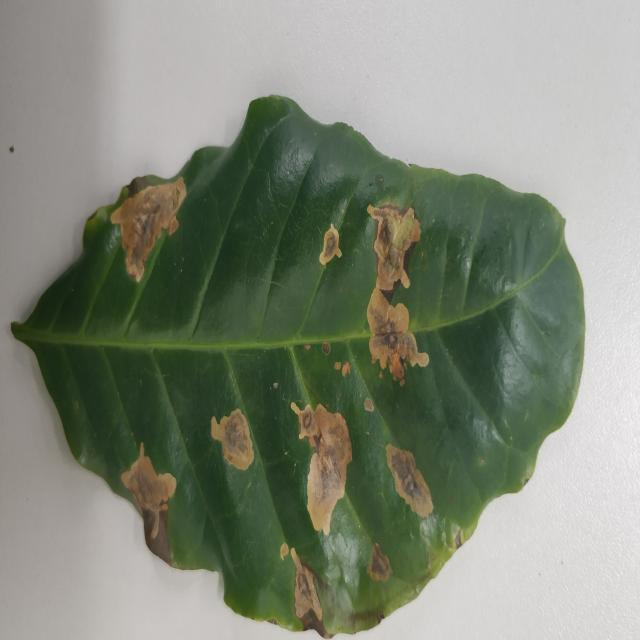Plaga-Minador: (9, 96, 587, 640)
